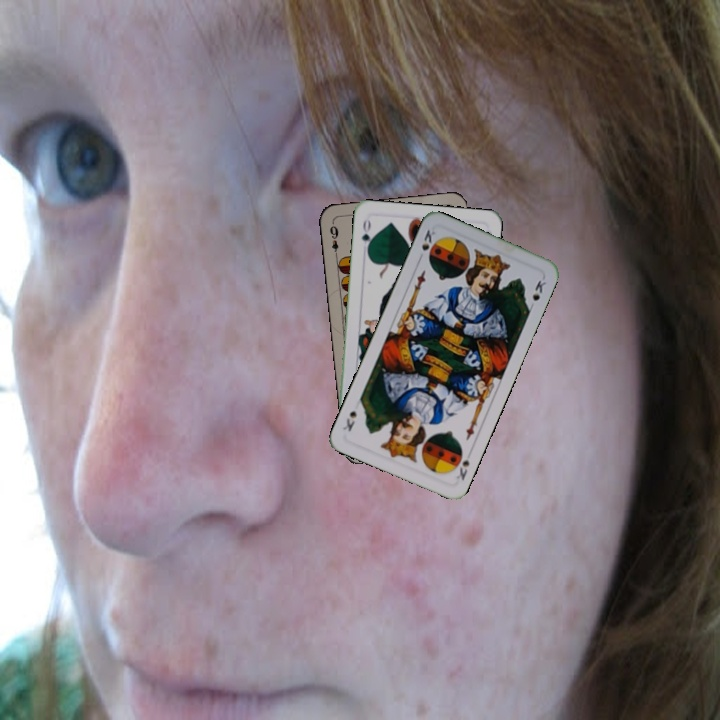E9: (326, 219, 341, 260)
GO: (357, 215, 375, 255)
SK: (414, 225, 438, 264), (452, 455, 472, 483)
